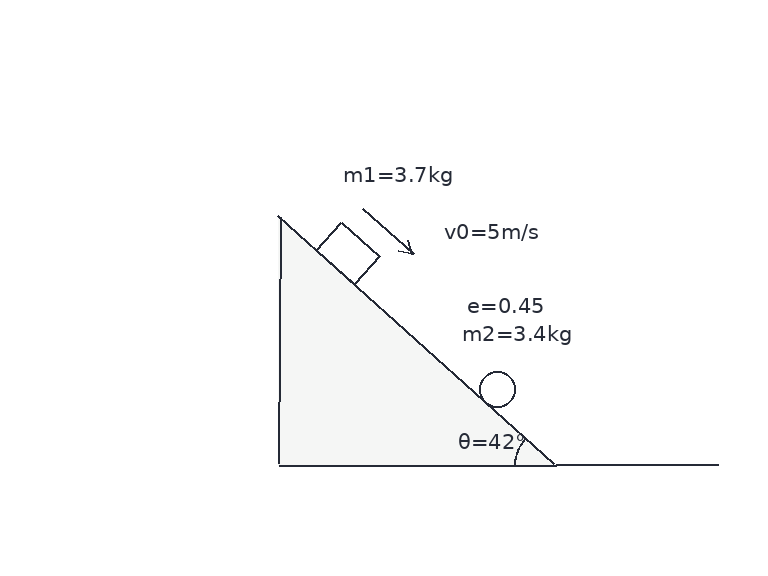ball: (477, 369, 517, 409)
block: (314, 220, 381, 286)
ramp: (277, 214, 557, 467)
